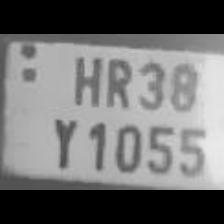0: (108, 117, 142, 173)
1: (80, 115, 110, 173)
3: (133, 55, 167, 111)
5: (174, 119, 208, 177), (142, 117, 174, 175)
8: (166, 57, 200, 112)
H: (68, 51, 102, 107)
R: (102, 53, 134, 109)
Y: (45, 109, 79, 171)
